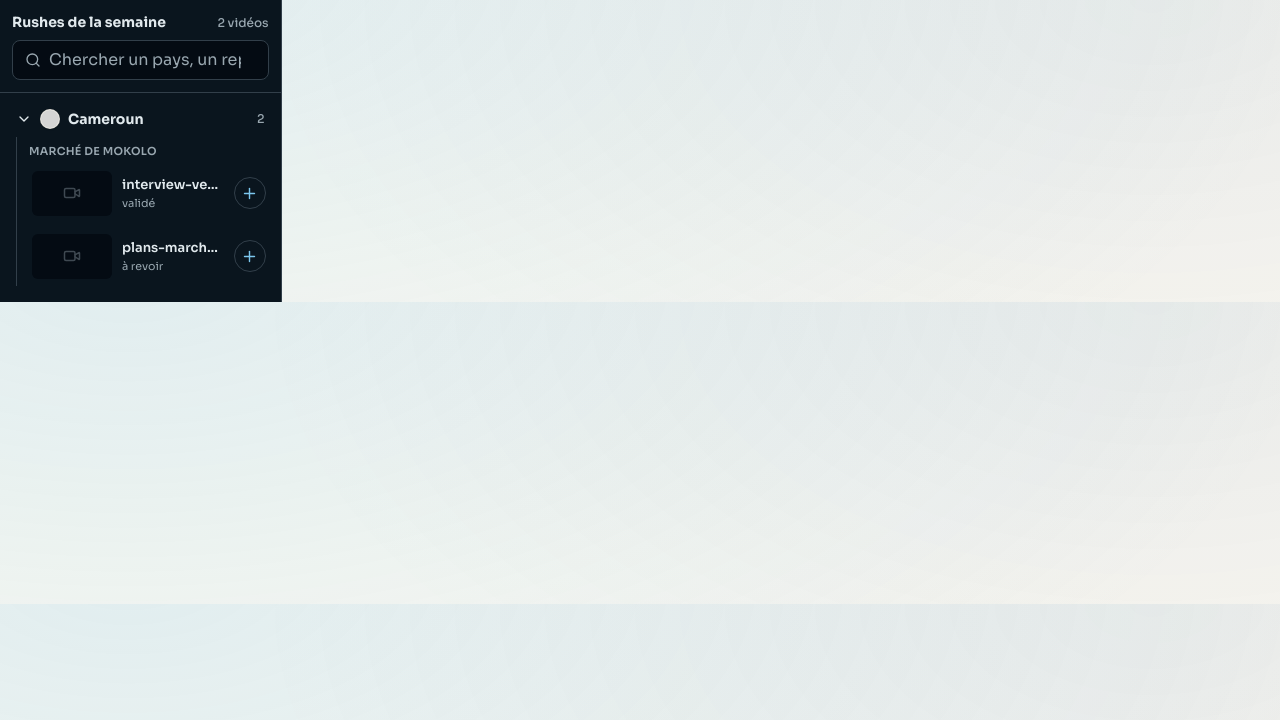
les rushes dans le studio › la recherche réduit la liste, et le dit quand elle ne trouve rien
The image size is (1280, 720).
Type "vendeuse" into the search field labelled "Chercher un pays, un reportage…" at (152, 60), box [49,48,256,72]
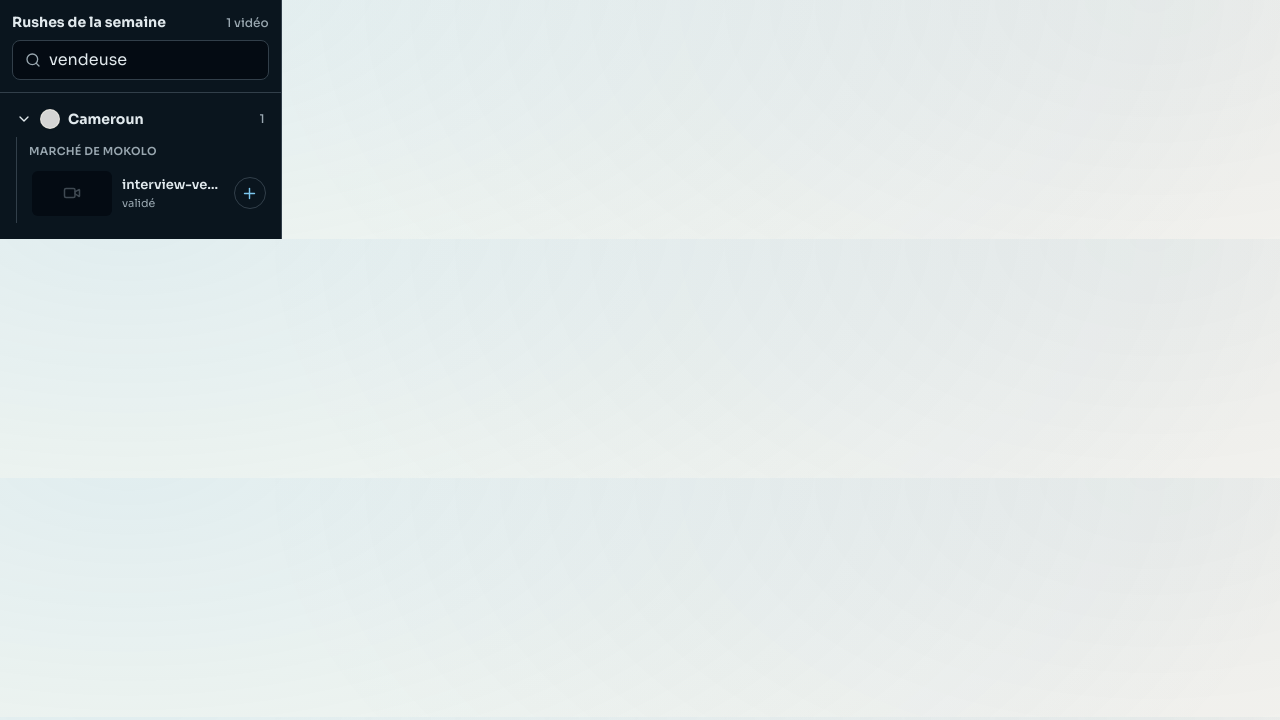
Check: the button "plans-marche.mp4" is gone
Replace the text in the search field named "Chercher un pays, un reportage…" with "zzz" at (152, 60), box [49,48,256,72]
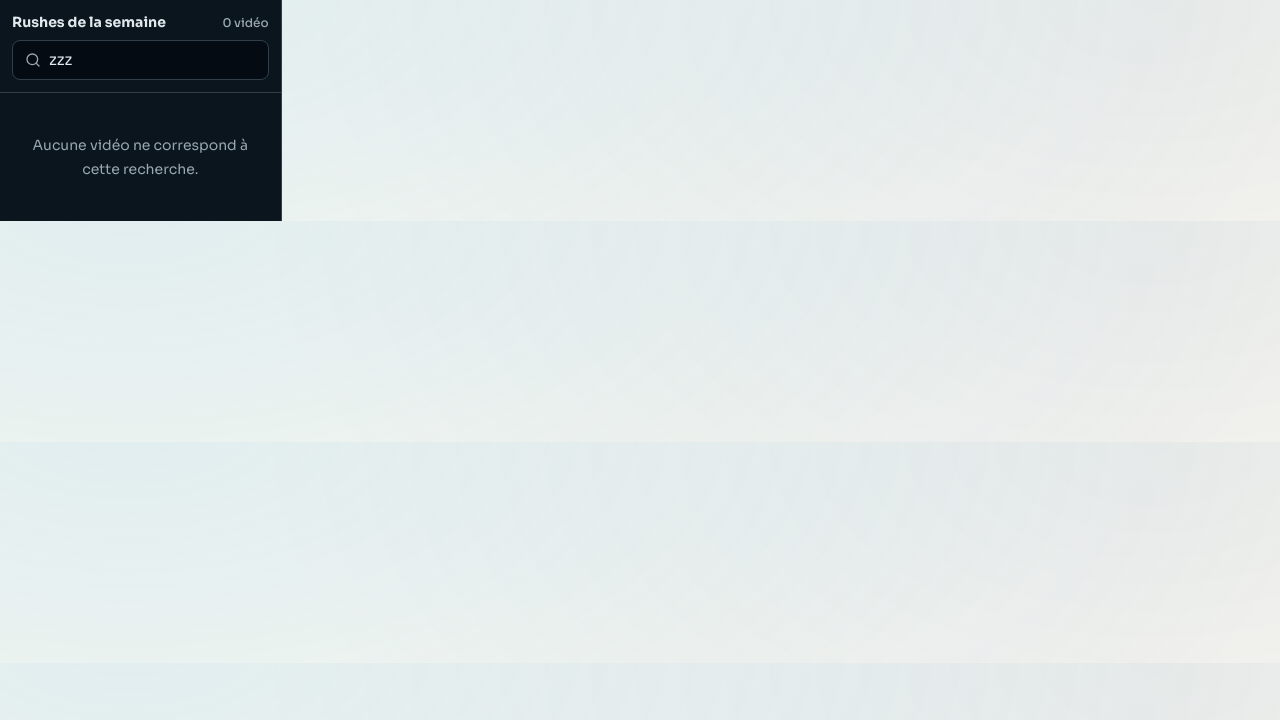
Check: the text "Aucune vidéo ne correspond à cette recherche." is shown, box [33,136,248,178]
